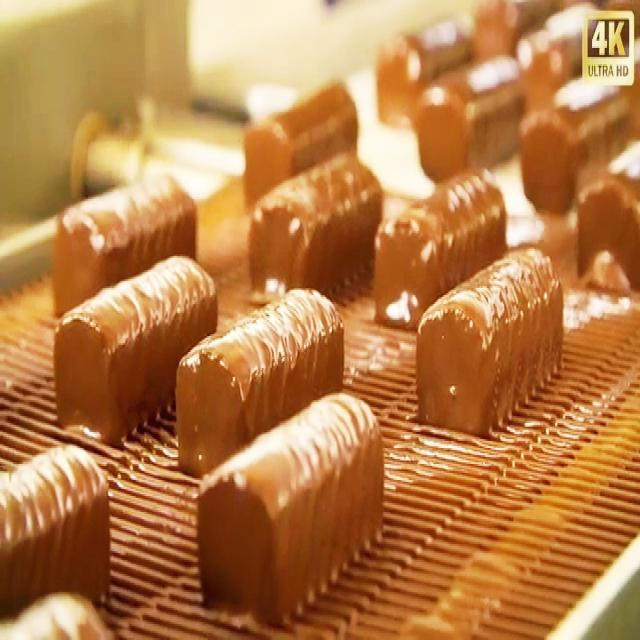Choco: (194, 388, 385, 618), (174, 283, 346, 477), (52, 249, 218, 441), (414, 242, 565, 437), (370, 163, 507, 321), (54, 170, 198, 310), (246, 148, 383, 292), (1, 440, 111, 595), (243, 78, 361, 213), (521, 85, 633, 222), (413, 51, 530, 177), (375, 8, 473, 132), (575, 149, 640, 294), (511, 21, 576, 104)
